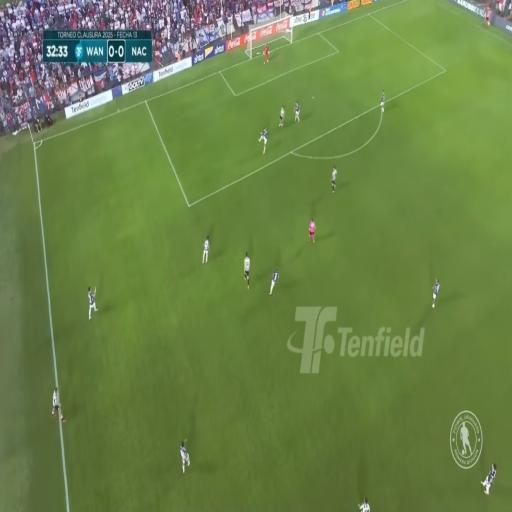Goalkeeper: (264, 43, 270, 65)
Player: (482, 466, 497, 498), (432, 274, 444, 314), (267, 264, 280, 297), (241, 250, 252, 289), (179, 442, 191, 471), (258, 127, 270, 154), (87, 284, 97, 316), (202, 234, 210, 268), (330, 163, 339, 192), (357, 494, 370, 512), (53, 388, 60, 420), (295, 98, 301, 126), (380, 88, 386, 112), (280, 103, 285, 129)
Referee: (308, 219, 316, 241), (485, 7, 492, 27)
